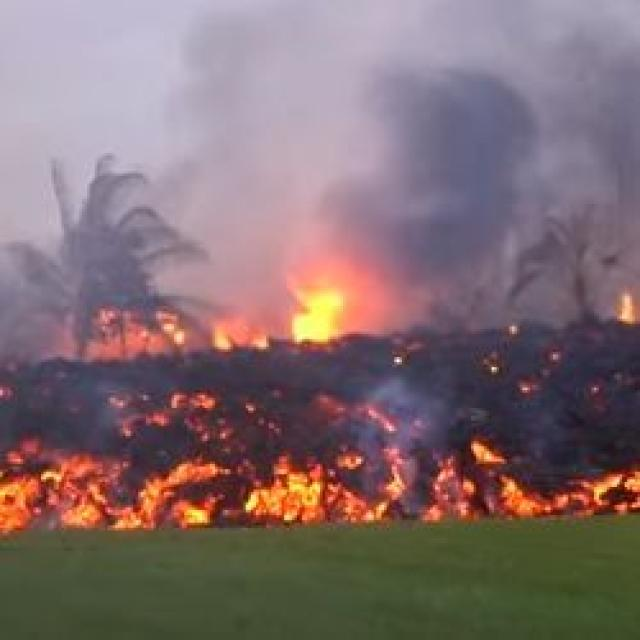Fire: (17, 416, 640, 536), (302, 306, 360, 364)
Smoke: (10, 38, 542, 319)
